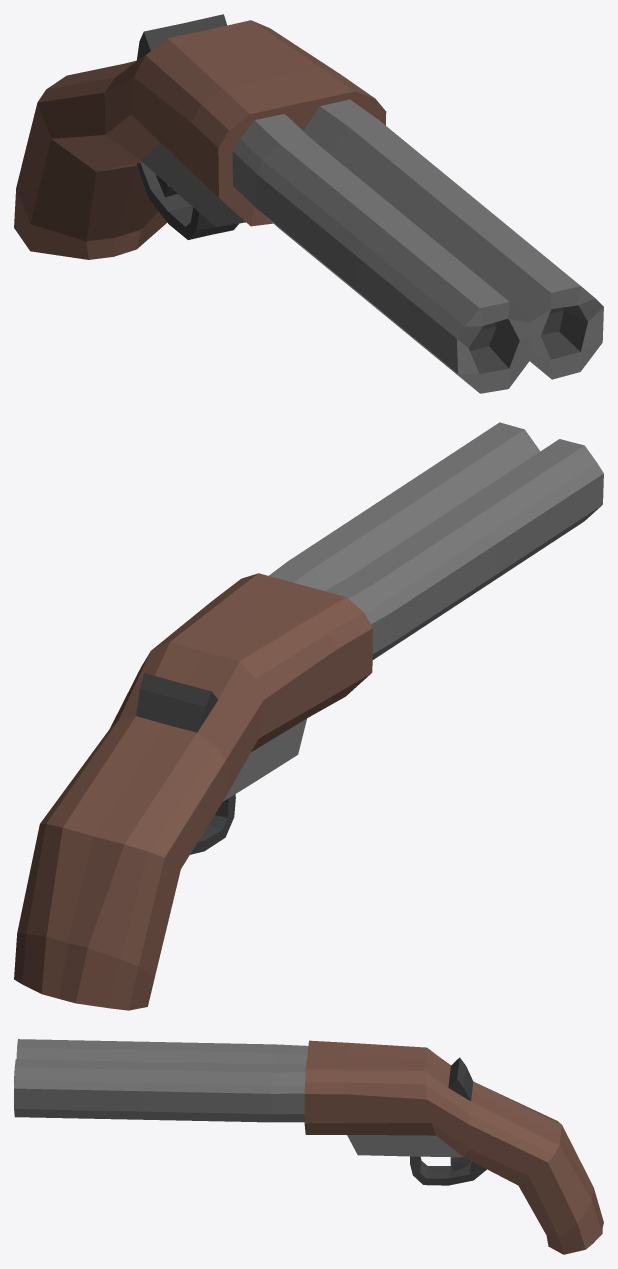
Rendered from escopeta.fbx.
3 views of the same model, one above another, from view 1: azimuth 30°, elevation 25°; view 2: azimuth 150°, elevation 25°; view 3: azimuth 270°, elevation 25° (orthographic). The views are drawn at different scales.
Visible parts, largest first — view 1: Cube; view 2: Cube; view 3: Cube.
Part boxes in pixels (left/top/right/bottom): Cube: left=14, top=14, right=603, bottom=393; Cube: left=14, top=422, right=603, bottom=1010; Cube: left=14, top=1039, right=603, bottom=1254.
Bounding box in the file's own units: 60.89 × 98.38 × 292.
